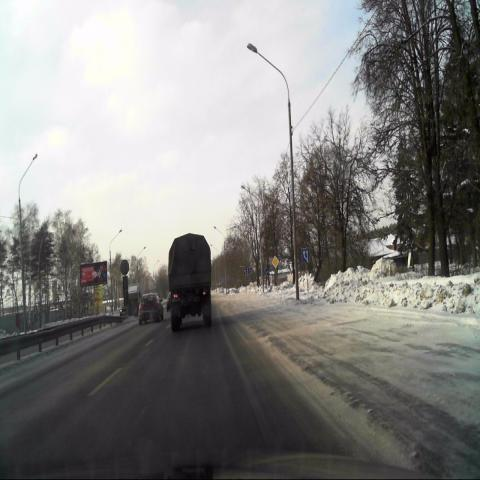2_1: (272, 255, 279, 269)
5_15_3: (302, 248, 310, 263)
